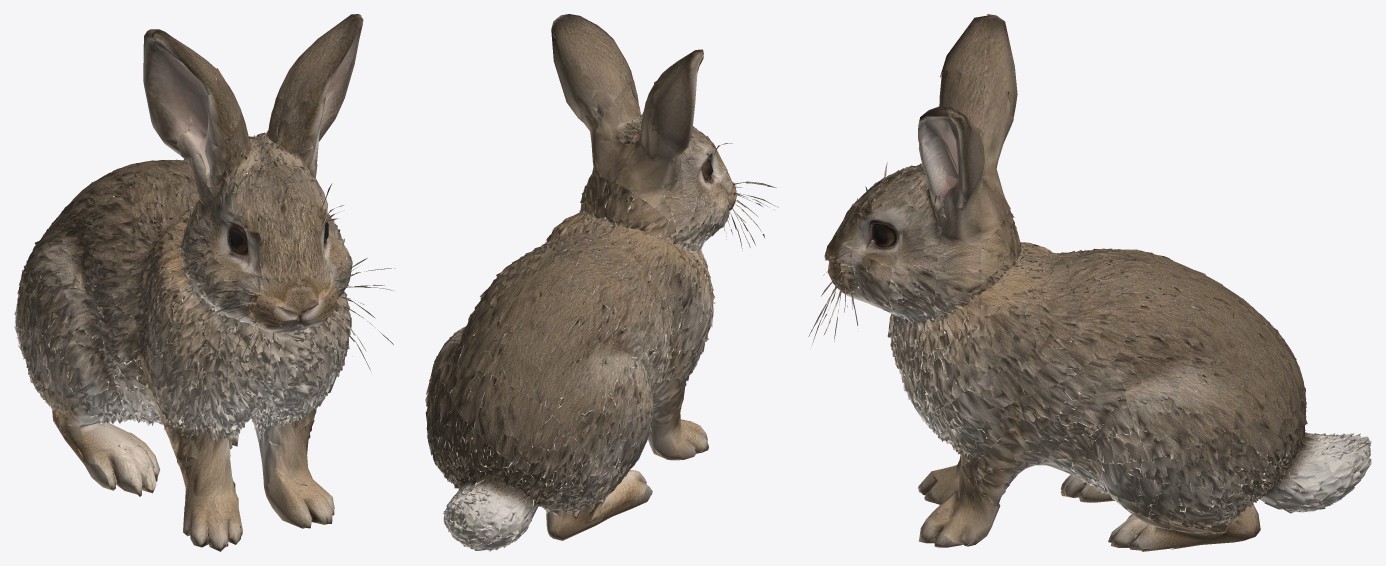
Rendered from rabbit.glb.
3 renders of one model, left to right at view 1: azimuth 30°, elevation 25°; view 2: azimuth 150°, elevation 25°; view 3: azimuth 270°, elevation 25°, orthographic. The views are drawn at different scales.
Parts seen in each view (by area): view 1: Mesh_0; view 2: Mesh_0; view 3: Mesh_0.
Boxes of the visible parts, x1,y1,x2,y2 form: Mesh_0: (14, 14, 394, 551); Mesh_0: (425, 14, 778, 551); Mesh_0: (808, 14, 1371, 551).
Bounding box in the file's own units: 0.0245 × 0.0501 × 0.0548.
1 material, 1 textured.
